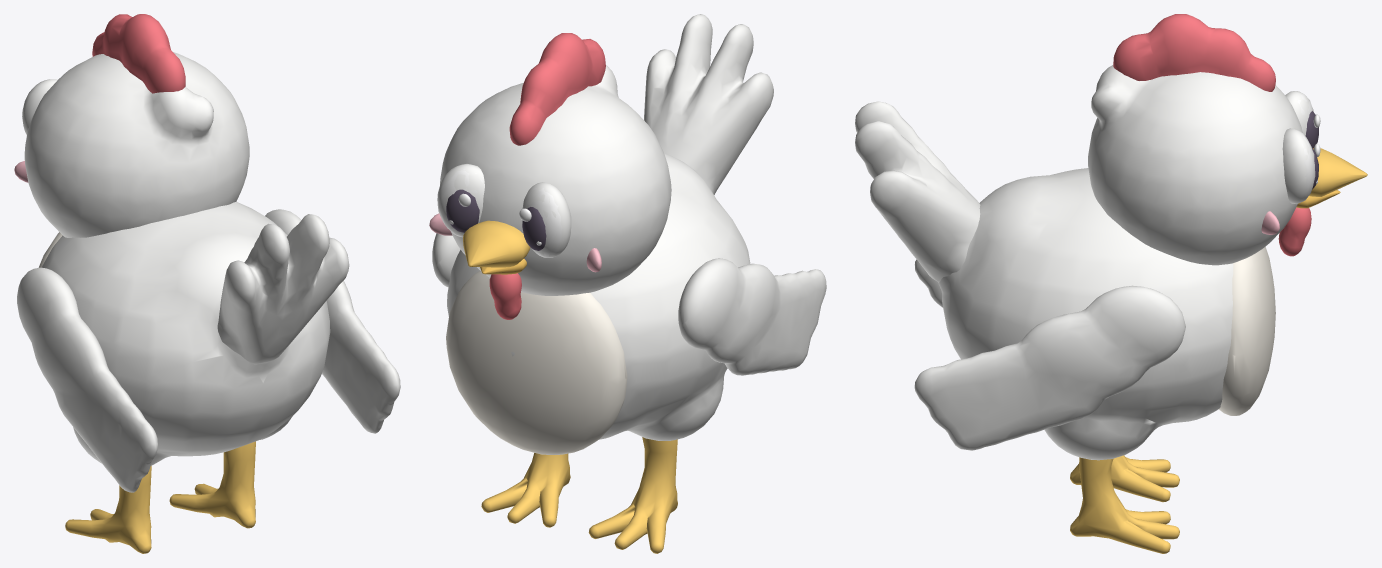
File: Chicken.glb
3 views of the same model, side by side, from view 1: azimuth 30°, elevation 25°; view 2: azimuth 150°, elevation 25°; view 3: azimuth 270°, elevation 25° (orthographic). The views are drawn at different scales.
Parts seen in each view (by area): view 1: Chicken__Body, Chicken__Head, Chicken__WingL, Chicken__Tail, Chicken__WingR, Chicken__Comb, Chicken__LegR, Chicken__LegL, Chicken__LidL; view 2: Chicken__Head, Chicken__Belly, Chicken__Body, Chicken__Tail, Chicken__WingL, Chicken__Comb, Chicken__LegL, Chicken__LegR, Chicken__Beak, Chicken__EyeWhite, Chicken__Pupil, Chicken__LidL (+4 smaller); view 3: Chicken__Body, Chicken__Head, Chicken__WingR, Chicken__Tail, Chicken__Comb, Chicken__Belly, Chicken__LegR, Chicken__LegL, Chicken__LidR, Chicken__Beak, Chicken__Wattle, Chicken__EyeWhite.
Part boxes in pixels (left/top/right/bottom): Chicken__Body: left=41, top=201, right=330, bottom=465; Chicken__Head: left=24, top=52, right=249, bottom=237; Chicken__WingL: left=17, top=267, right=157, bottom=492; Chicken__Tail: left=217, top=214, right=349, bottom=364; Chicken__WingR: left=265, top=209, right=400, bottom=433; Chicken__Comb: left=92, top=14, right=185, bottom=93; Chicken__LegR: left=169, top=441, right=255, bottom=528; Chicken__LegL: left=65, top=466, right=151, bottom=553; Chicken__LidL: left=22, top=79, right=57, bottom=135; Chicken__Head: left=440, top=65, right=671, bottom=295; Chicken__Belly: left=446, top=270, right=627, bottom=454; Chicken__Body: left=447, top=153, right=750, bottom=440; Chicken__Tail: left=644, top=14, right=773, bottom=194; Chicken__WingL: left=678, top=258, right=826, bottom=375; Chicken__Comb: left=509, top=33, right=605, bottom=145; Chicken__LegL: left=588, top=437, right=677, bottom=553; Chicken__LegR: left=481, top=453, right=570, bottom=527; Chicken__Beak: left=463, top=220, right=530, bottom=267; Chicken__EyeWhite: left=437, top=168, right=565, bottom=257; Chicken__Pupil: left=446, top=189, right=546, bottom=250; Chicken__LidL: left=522, top=182, right=571, bottom=257; Chicken__Body: left=938, top=168, right=1274, bottom=460; Chicken__Head: left=1088, top=65, right=1302, bottom=265; Chicken__WingR: left=914, top=285, right=1185, bottom=450; Chicken__Tail: left=855, top=101, right=980, bottom=282; Chicken__Comb: left=1113, top=14, right=1275, bottom=91; Chicken__Belly: left=1219, top=247, right=1275, bottom=415; Chicken__LegR: left=1070, top=457, right=1179, bottom=553; Chicken__LegL: left=1070, top=455, right=1179, bottom=502; Chicken__LidR: left=1282, top=128, right=1314, bottom=204; Chicken__Beak: left=1309, top=148, right=1367, bottom=196; Chicken__Wattle: left=1278, top=207, right=1311, bottom=256; Chicken__EyeWhite: left=1297, top=93, right=1315, bottom=200.
Size of the model in its own units: 3.35 by 5.56 by 5.19.
